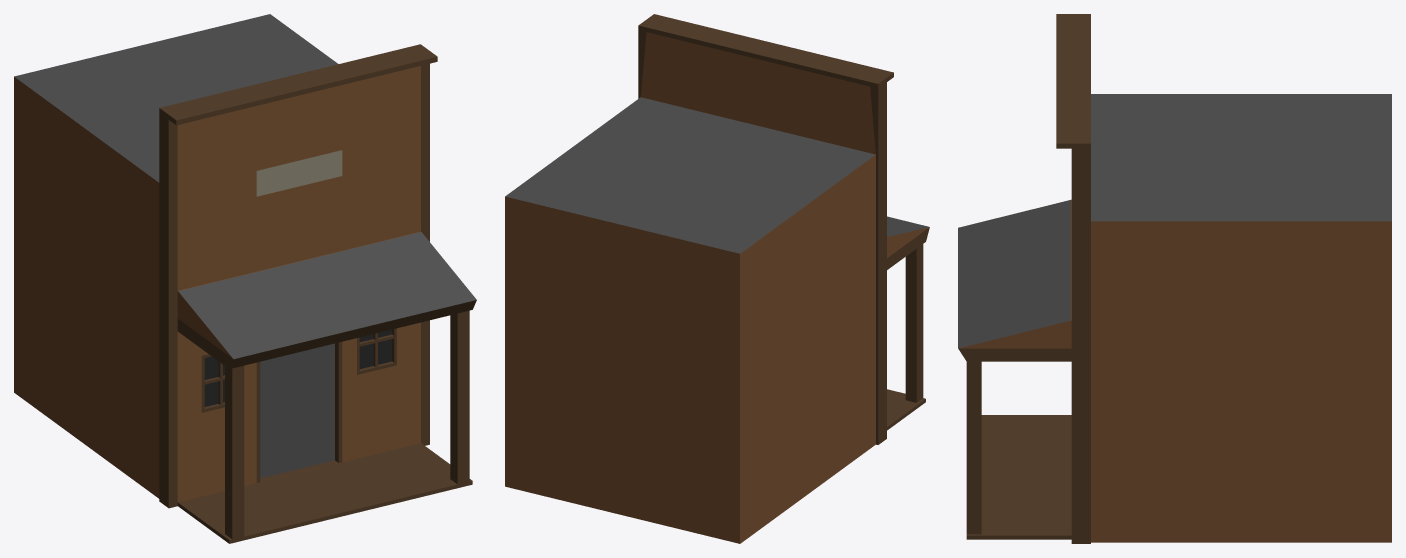
Rendered from store1.fbx.
3 views of the same model, side by side, from view 1: azimuth 30°, elevation 25°; view 2: azimuth 150°, elevation 25°; view 3: azimuth 270°, elevation 25° (orthographic). The views are drawn at different scales.
Parts seen in each view (by area): view 1: Store1; view 2: Store1; view 3: Store1.
Boxes of the visible parts, left/top/right/bottom form: Store1: left=14, top=14, right=476, bottom=543; Store1: left=505, top=14, right=929, bottom=543; Store1: left=958, top=14, right=1391, bottom=543.
Bounding box in the file's own units: 204 × 294 × 288.
